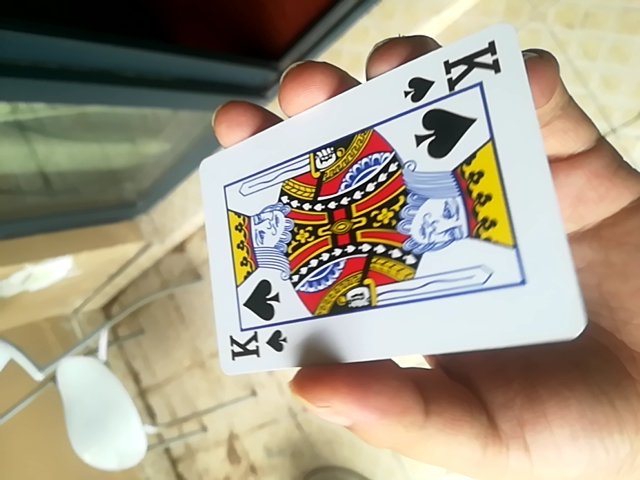ht k: (200, 29, 579, 390)
